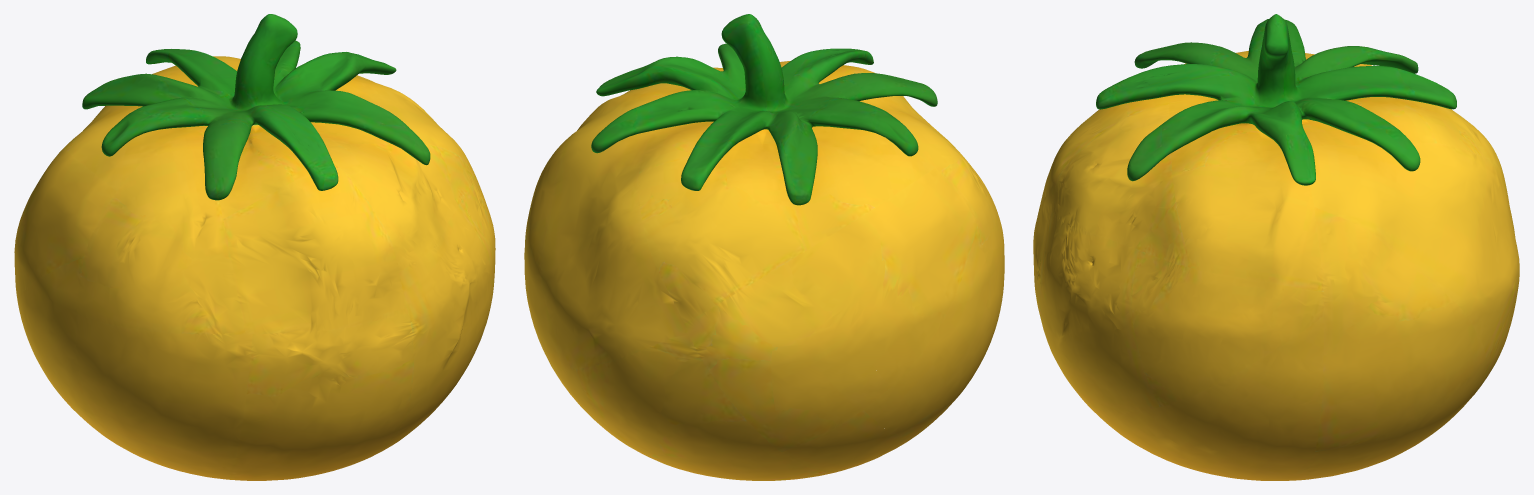
The model's file is gold.glb.
3 renders of one model, left to right at view 1: azimuth 30°, elevation 25°; view 2: azimuth 150°, elevation 25°; view 3: azimuth 270°, elevation 25°, orthographic. The views are drawn at different scales.
Parts seen in each view (by area): view 1: tripo_node_4074fb04-297a-432d-8680-68bcdc707487; view 2: tripo_node_4074fb04-297a-432d-8680-68bcdc707487; view 3: tripo_node_4074fb04-297a-432d-8680-68bcdc707487.
Boxes of the visible parts, left/top/right/bottom form: tripo_node_4074fb04-297a-432d-8680-68bcdc707487: left=14, top=14, right=495, bottom=480; tripo_node_4074fb04-297a-432d-8680-68bcdc707487: left=524, top=14, right=1004, bottom=480; tripo_node_4074fb04-297a-432d-8680-68bcdc707487: left=1033, top=14, right=1519, bottom=480.
Size of the model in its own units: 0.9794 by 0.9442 by 0.9765.
Materials: 1 (1 with a texture image).
